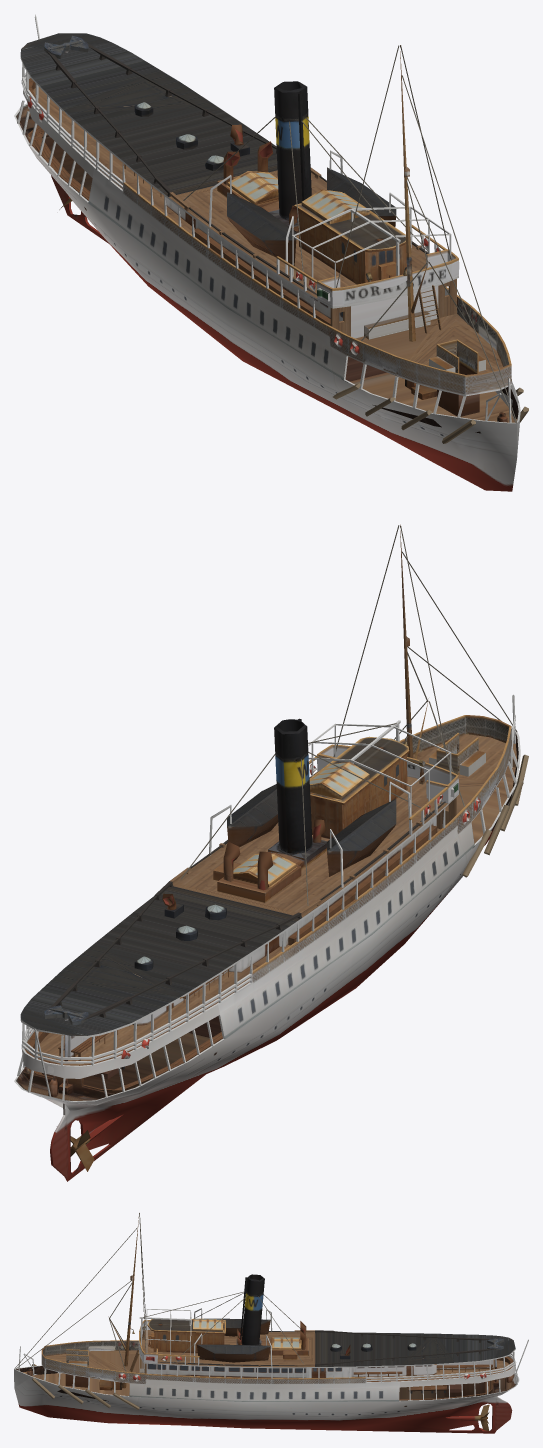
File: boat-steamer.glb
3 views of the same model, one above another, from view 1: azimuth 30°, elevation 25°; view 2: azimuth 150°, elevation 25°; view 3: azimuth 270°, elevation 25° (orthographic). The views are drawn at different scales.
Visible parts, largest first — view 1: mn-norrtelje_mn-norrtelje_d_0; view 2: mn-norrtelje_mn-norrtelje_d_0; view 3: mn-norrtelje_mn-norrtelje_d_0.
Boxes of the visible parts, bbox=[...] form: mn-norrtelje_mn-norrtelje_d_0: bbox=[14, 14, 528, 491]; mn-norrtelje_mn-norrtelje_d_0: bbox=[14, 524, 528, 1181]; mn-norrtelje_mn-norrtelje_d_0: bbox=[14, 1213, 528, 1433].
Size of the model in its own units: 7.71 by 21.25 by 44.38.
Materials: 1 (1 with a texture image).
